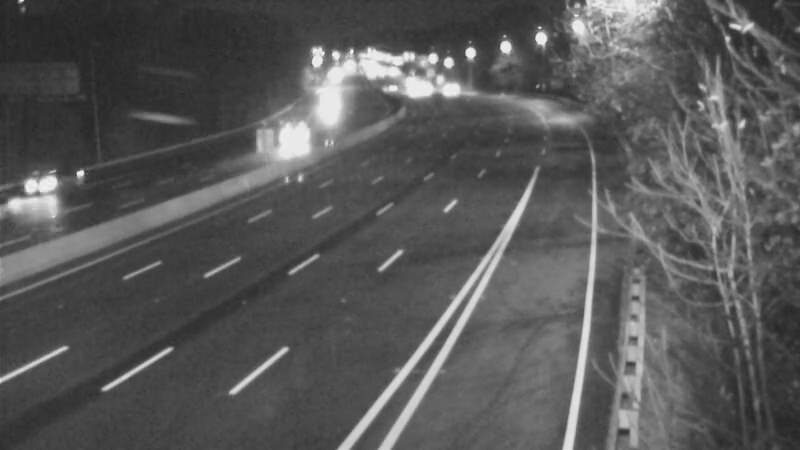vehicle: (9, 143, 89, 223), (421, 64, 471, 114), (275, 115, 325, 165)
